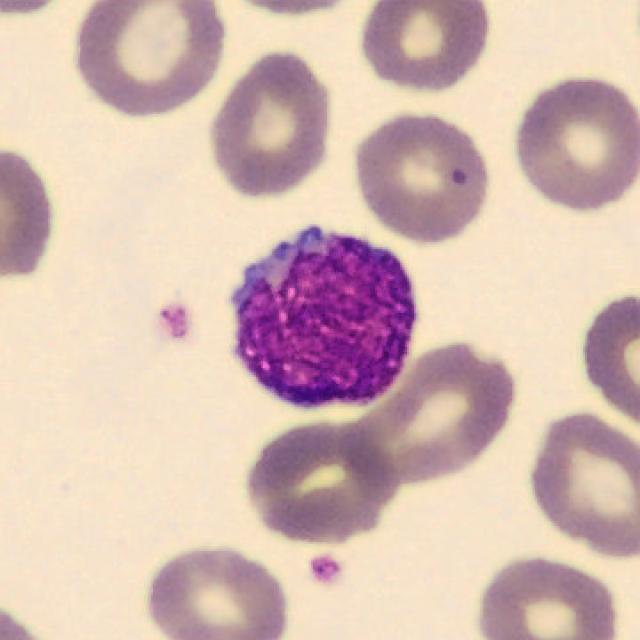Linfocito: (229, 228, 418, 409)
